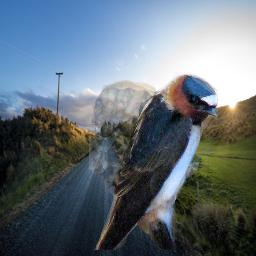Swallow: (89, 72, 218, 250)
